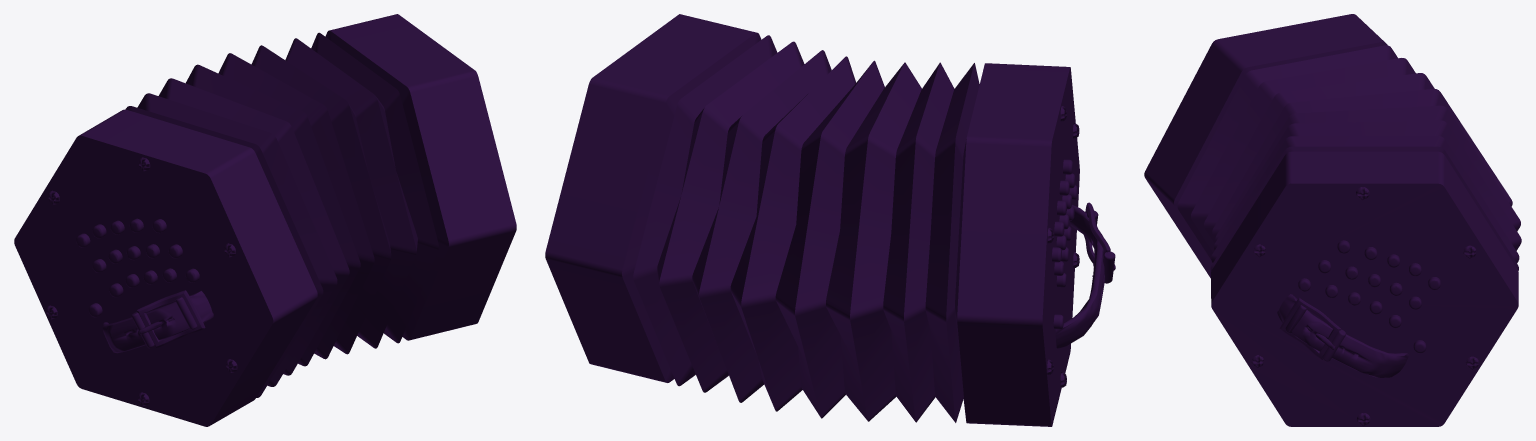
File: cage04.obj
3 views of the same model, side by side, from view 1: azimuth 30°, elevation 25°; view 2: azimuth 150°, elevation 25°; view 3: azimuth 270°, elevation 25° (orthographic). The views are drawn at different scales.
Parts seen in each view (by area): view 1: polySurface270, screwHighPoly:polySurface170 screwHighPoly:polySurface314 polySu; view 2: polySurface270, screwHighPoly:polySurface170 screwHighPoly:polySurface314 polySu; view 3: polySurface270, screwHighPoly:polySurface170 screwHighPoly:polySurface314 polySu.
Part boxes in pixels (<box>): polySurface270: <box>14,14,516,426</box>; screwHighPoly:polySurface170 screwHighPoly:polySurface314 polySu: <box>46,157,237,406</box>; polySurface270: <box>545,14,1115,426</box>; screwHighPoly:polySurface170 screwHighPoly:polySurface314 polySu: <box>1047,106,1079,387</box>; polySurface270: <box>1144,14,1521,426</box>; screwHighPoly:polySurface170 screwHighPoly:polySurface314 polySu: <box>1251,187,1478,426</box>.
Size of the model in its own units: 12.5 by 7 by 9.81.
